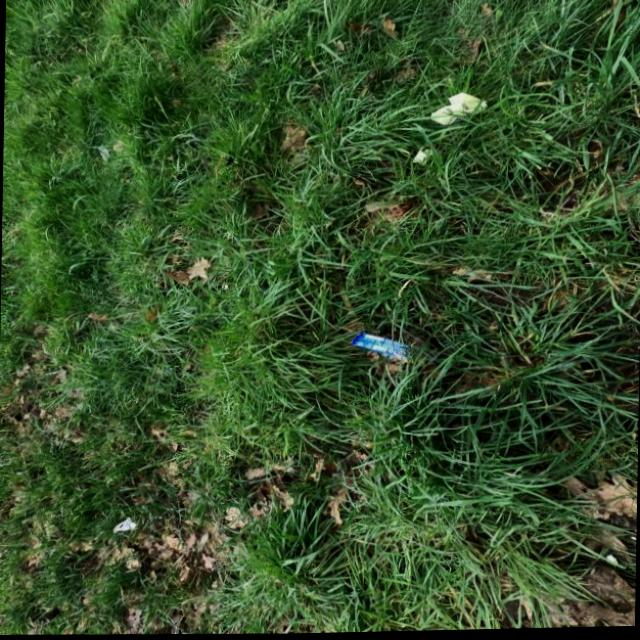Plastic: (428, 91, 488, 128), (350, 331, 414, 365), (410, 144, 432, 166)
